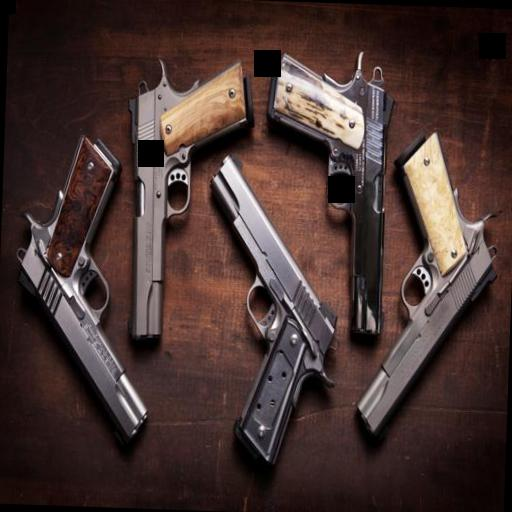Handgun: (352, 124, 500, 448), (8, 130, 157, 450), (200, 154, 344, 482), (118, 54, 255, 350), (261, 48, 393, 342)
